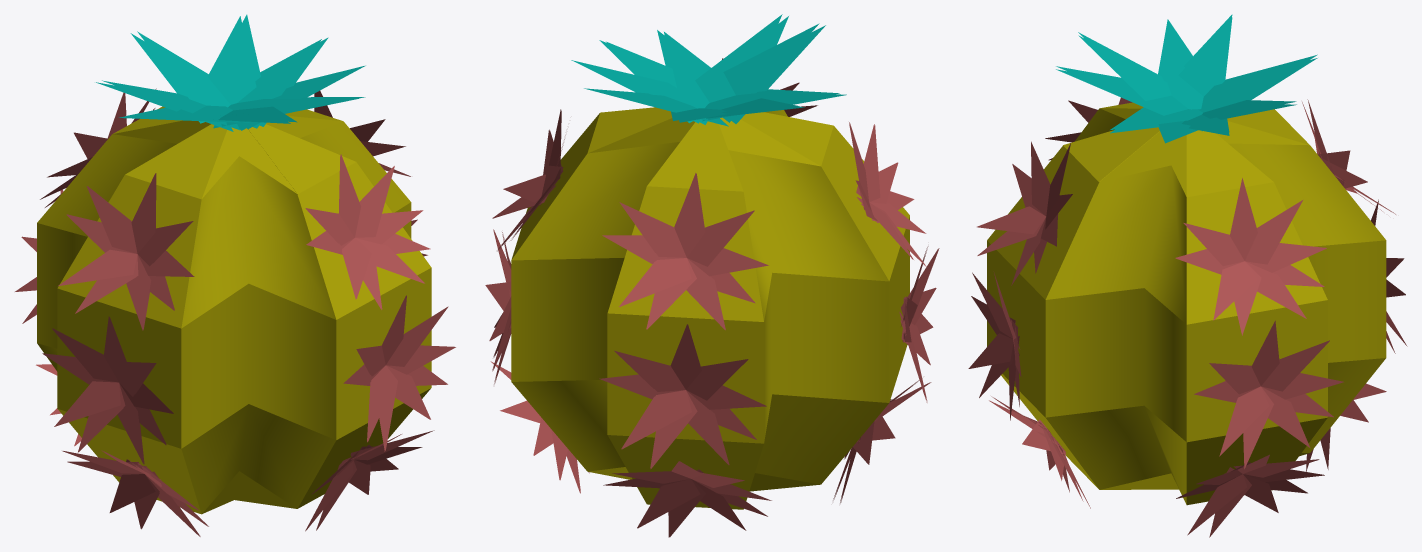
File: Cactus_shrub.fbx
3 renders of one model, left to right at view 1: azimuth 30°, elevation 25°; view 2: azimuth 150°, elevation 25°; view 3: azimuth 270°, elevation 25°, orthographic. The views are drawn at different scales.
Parts seen in each view (by area): view 1: Flower2; view 2: Flower2; view 3: Flower2.
Boxes of the visible parts, x1,y1,x2,y2 form: Flower2: (15, 14, 455, 536); Flower2: (485, 14, 939, 537); Flower2: (968, 14, 1407, 537).
Bounding box in the file's own units: 2.12 × 2.26 × 2.09.
